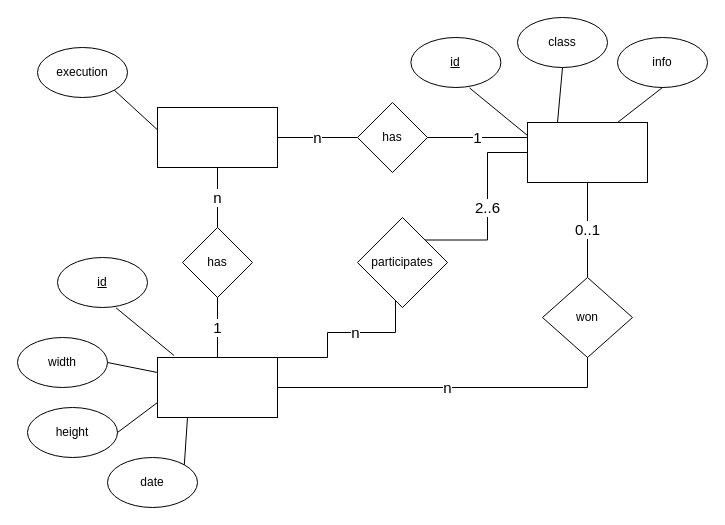
This 725x525 diagram has some shape labels left out. The shapes that lost their labels are listed below. From the top down, each one's centre as x and y in pixels, then its label:
point 217,137: execution_times
point 587,152: players
point 217,387: games
